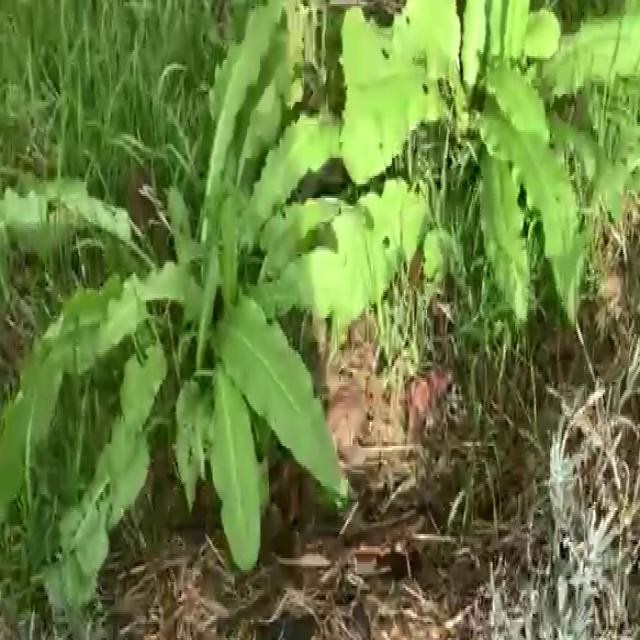organic waste: (21, 22, 367, 574), (347, 0, 640, 324)
